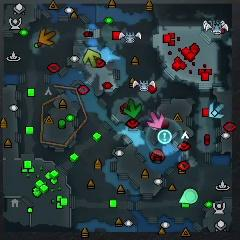p2: (179, 188, 199, 203)
x1: (147, 112, 164, 128)
x2: (83, 50, 101, 67)
x3: (209, 103, 225, 119)
x4: (124, 99, 142, 118)
x5: (39, 29, 56, 47)
